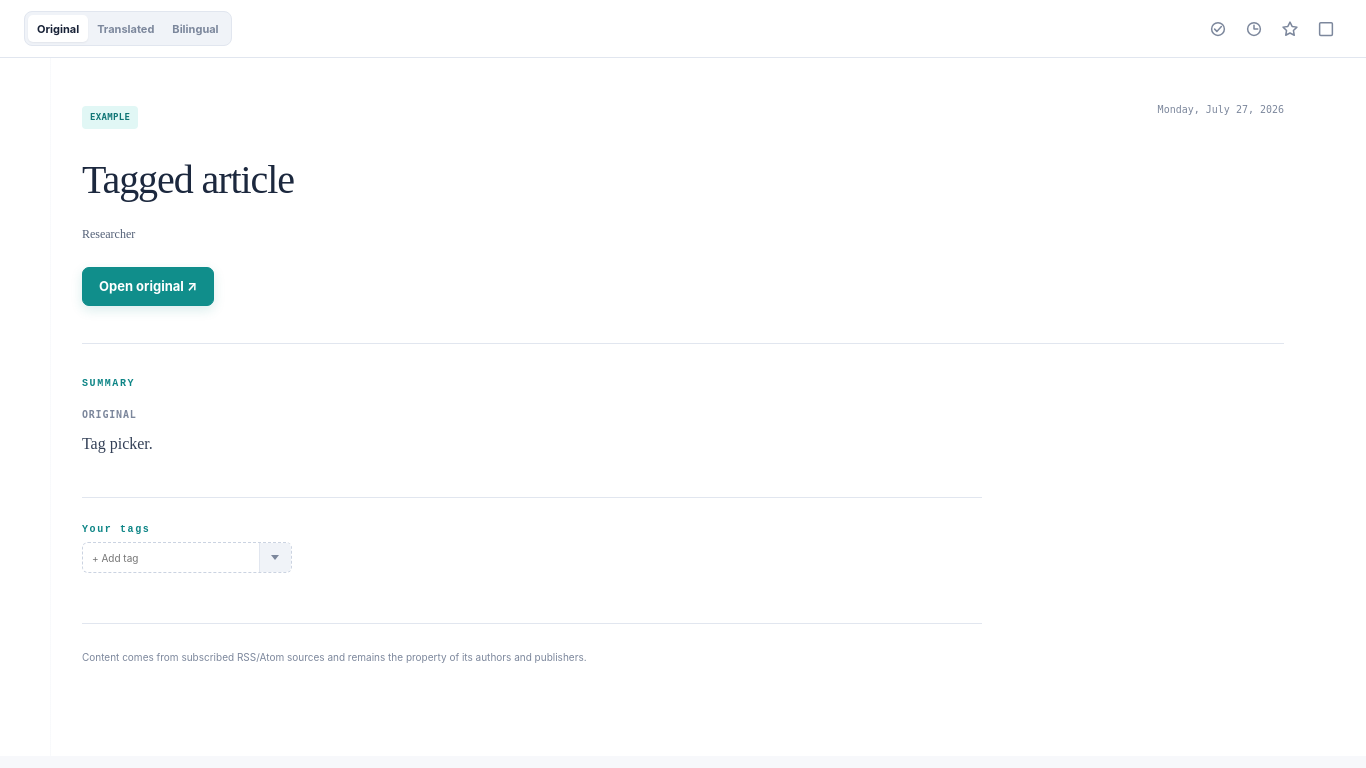
Test: reader edge cases › opens tag suggestions only from the chevron and uses a custom option grid
Type "Qua" into the field labelled "Add tag".
click(171, 558); type("Qua")  # box [83,543,259,572]
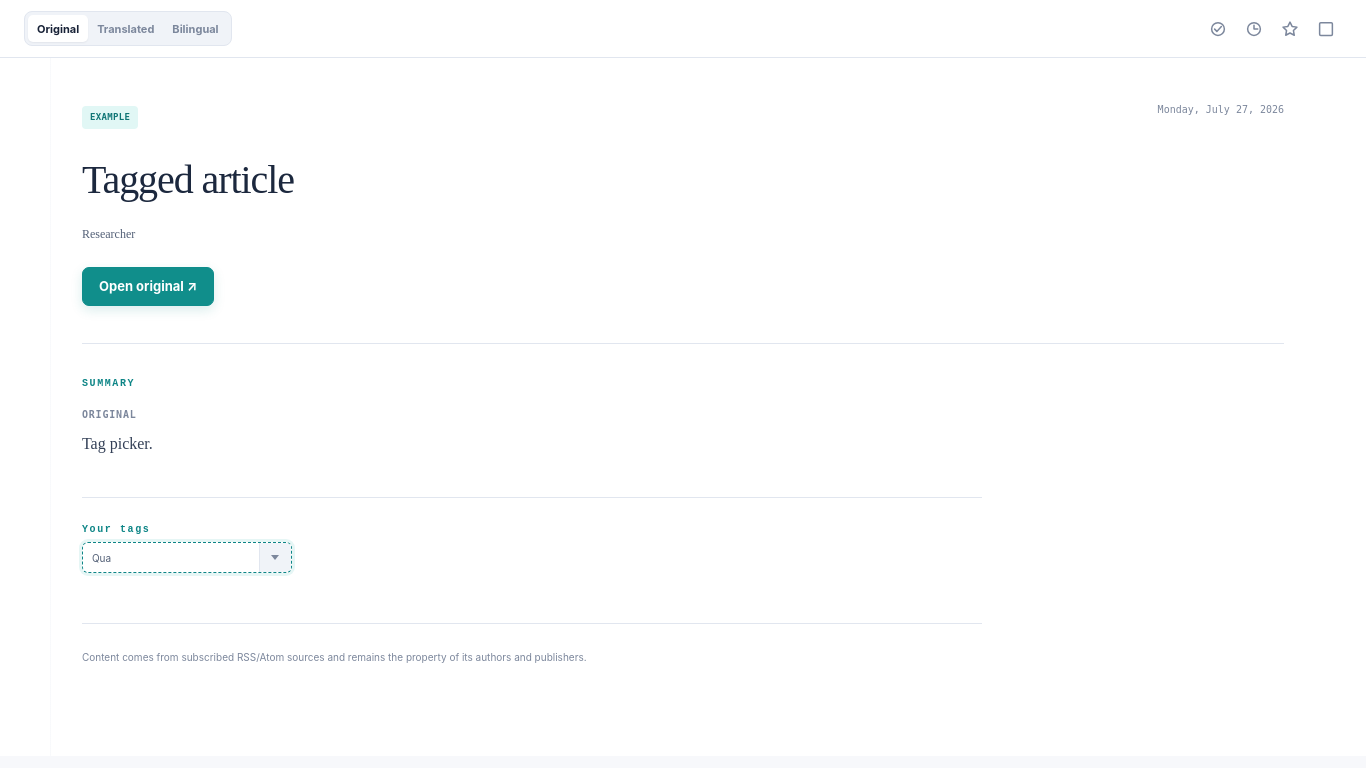
Expected: the list "Choose an existing tag" is not shown
Click the button named "Show tag suggestions".
click(275, 558)  # box [259,543,291,572]
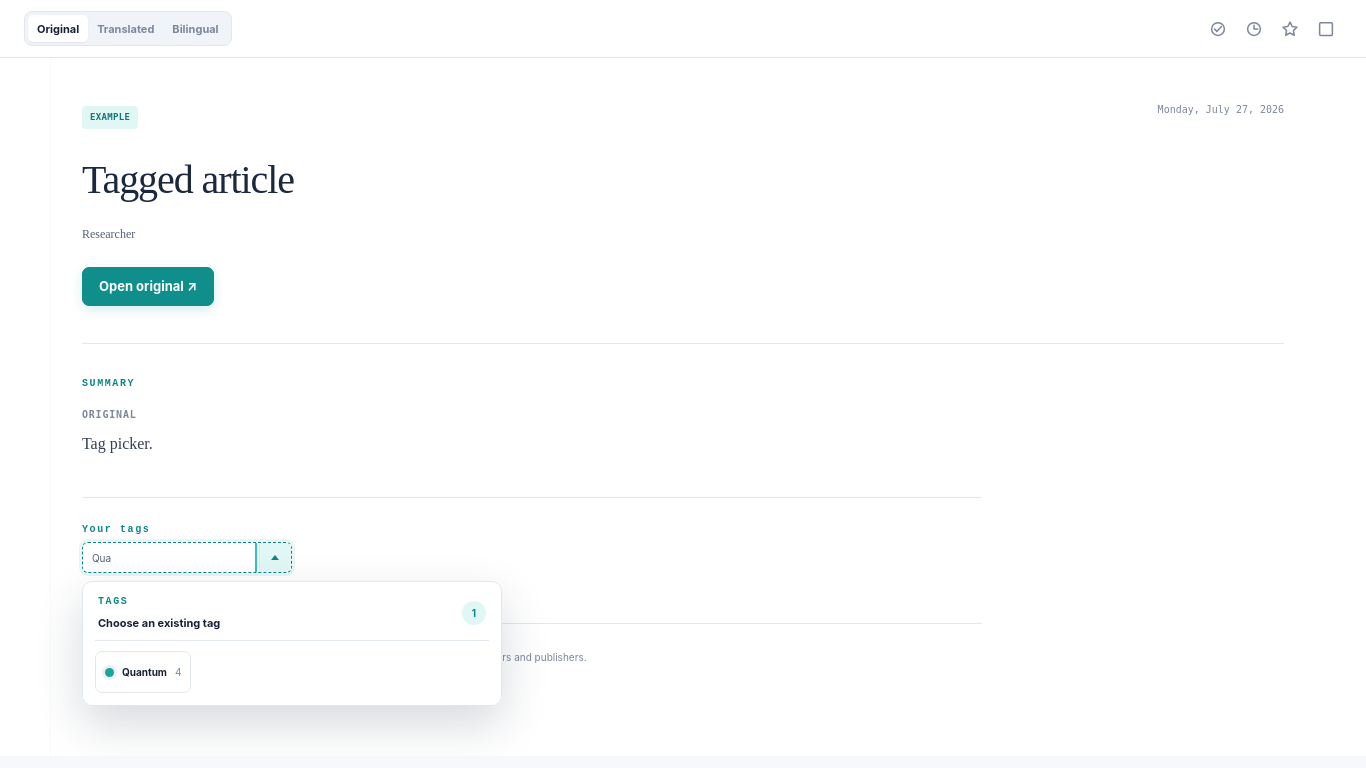
Result: the list "Choose an existing tag" is shown at [82,581,502,706]
Result: the number of options is 1
Click the option "Quantum 4".
click(143, 672)  # box [95,651,192,693]
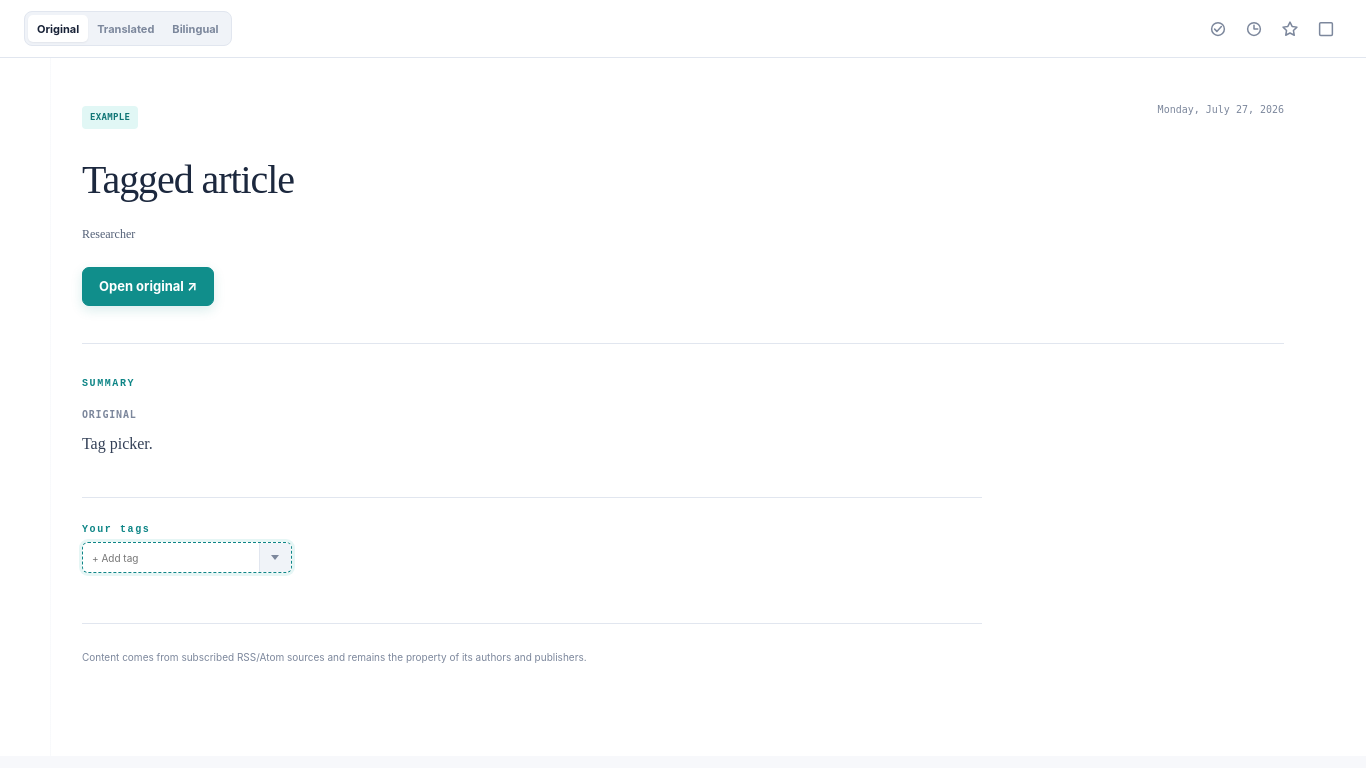
Result: the text "Choose an existing tag" is gone
